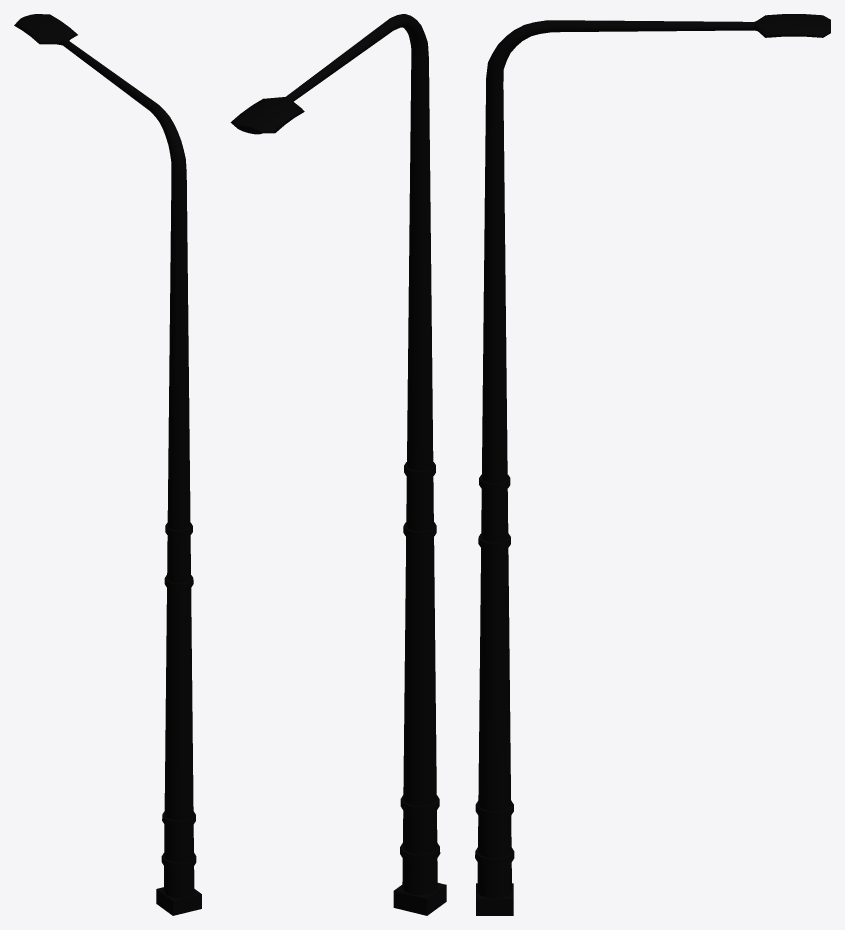
File: light_pole_33.obj
3 views of the same model, side by side, from view 1: azimuth 30°, elevation 25°; view 2: azimuth 150°, elevation 25°; view 3: azimuth 270°, elevation 25° (orthographic). The views are drawn at different scales.
Parts seen in each view (by area): view 1: light_pole_33; view 2: light_pole_33; view 3: light_pole_33.
Part boxes in pixels (bbox=[...]): light_pole_33: bbox=[14, 14, 201, 915]; light_pole_33: bbox=[230, 14, 446, 915]; light_pole_33: bbox=[475, 14, 830, 915].
Size of the model in its own units: 1.53 by 29.71 by 10.8.
Materials: 1 (1 with a texture image).
